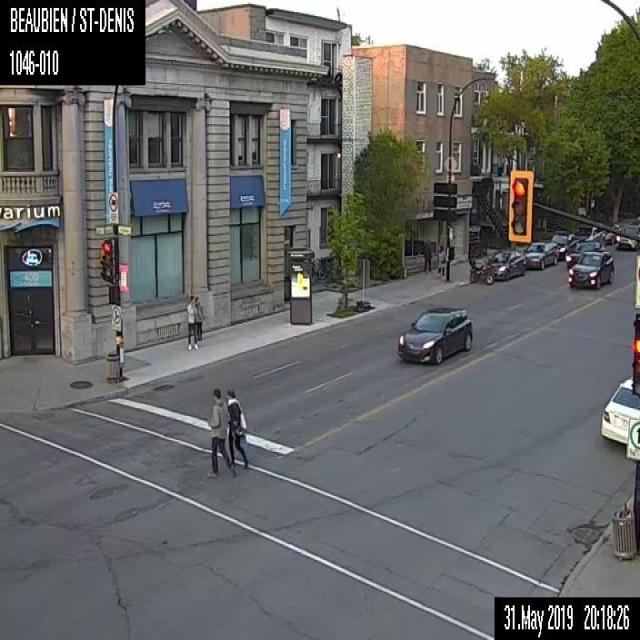pedestrian: (206, 387, 235, 478), (226, 388, 248, 466), (186, 295, 198, 349), (194, 296, 202, 341), (436, 244, 446, 275), (424, 241, 432, 274)
vehicle: (397, 306, 472, 364), (600, 376, 639, 445), (566, 250, 614, 287), (486, 249, 525, 280), (565, 240, 604, 267), (522, 242, 557, 269), (549, 233, 577, 260), (469, 258, 494, 283), (570, 224, 604, 242), (615, 224, 639, 249), (602, 223, 622, 244)
